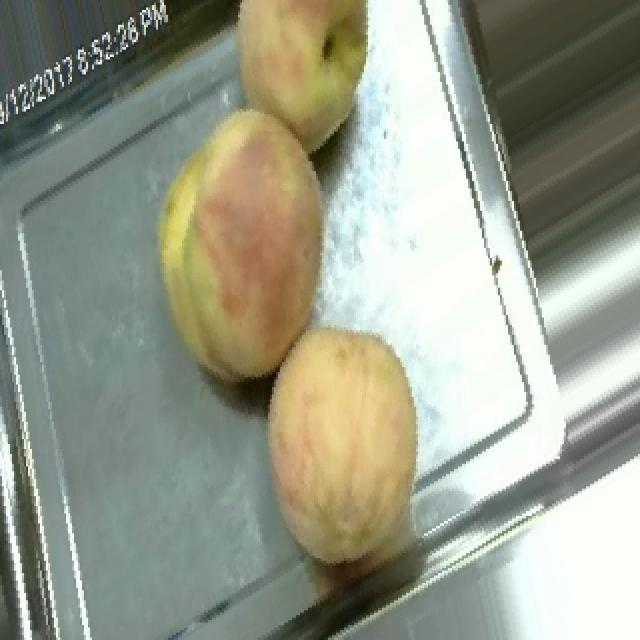Fruit: (124, 90, 366, 410), (230, 303, 468, 595), (198, 0, 408, 166)
